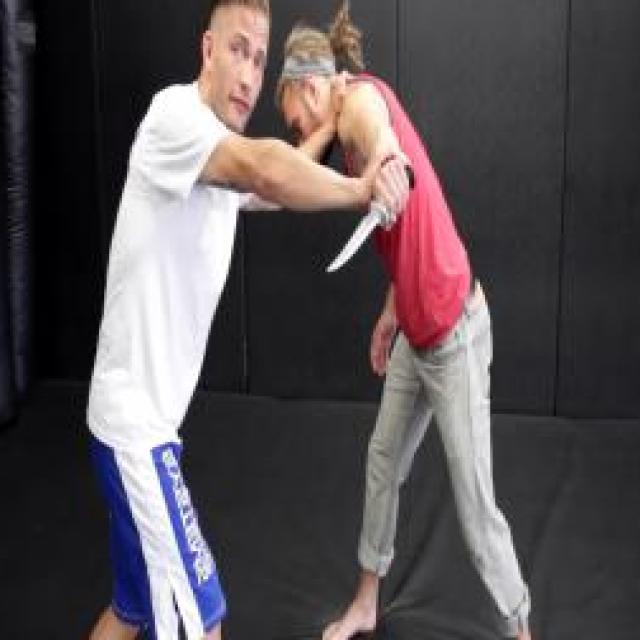knife: (318, 158, 422, 283)
